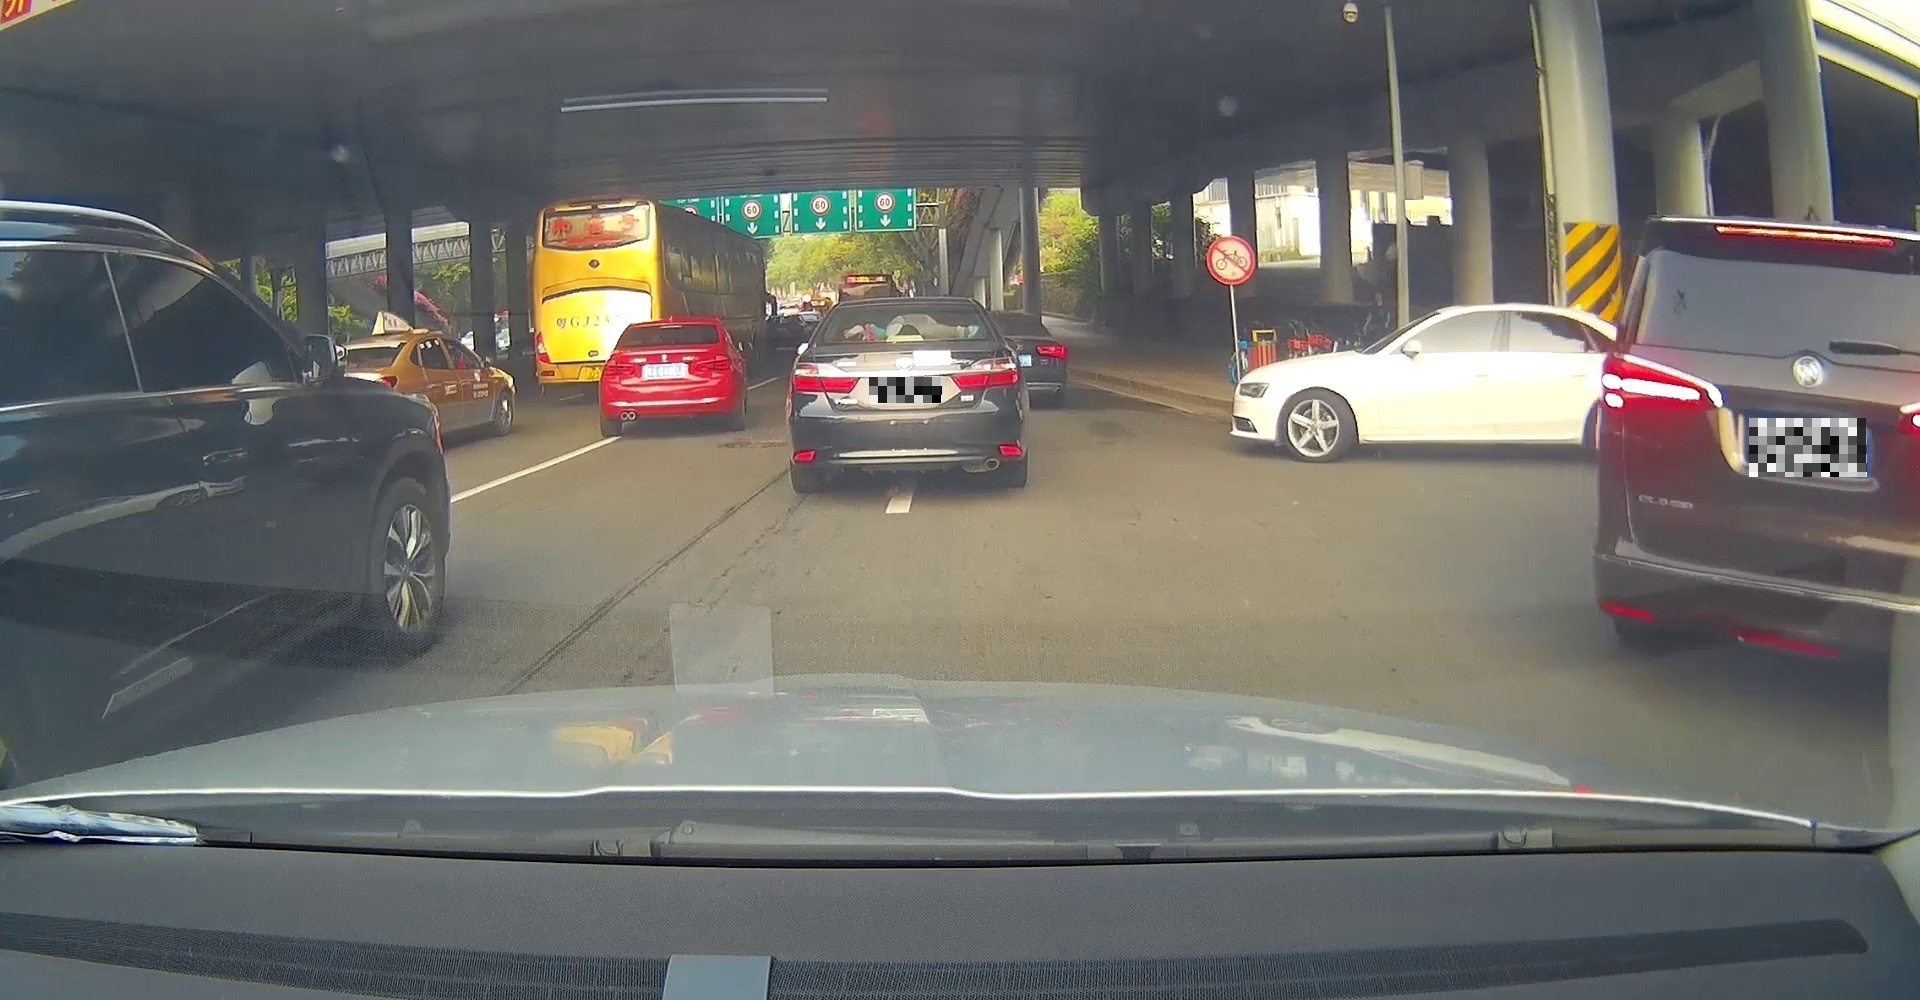L_light: (792, 363, 858, 393), (604, 362, 635, 374)
R_light: (951, 357, 1018, 391), (695, 357, 731, 371)
T_light: (897, 306, 921, 308), (662, 325, 682, 327)
day-no: (787, 299, 1029, 492), (599, 322, 737, 435)
plate_1: (869, 377, 942, 404)
plate_2: (1749, 418, 1867, 477)
